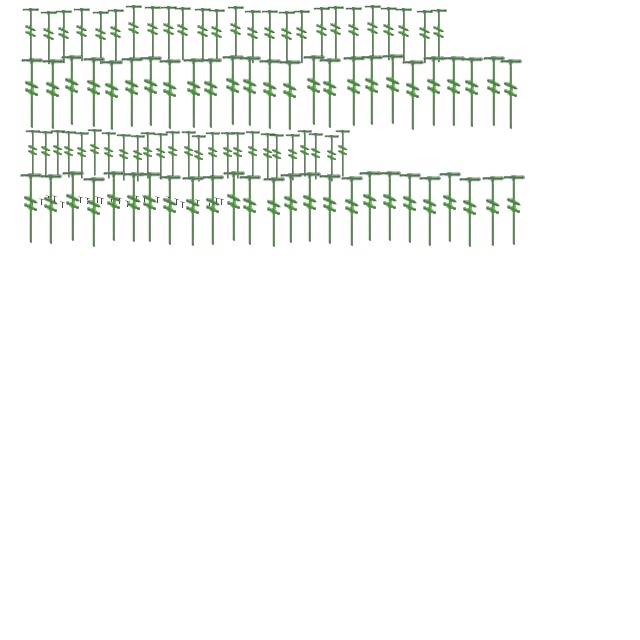enseble_chain: (70, 196, 76, 204), (78, 196, 84, 204), (166, 196, 172, 204), (174, 198, 180, 206), (30, 200, 36, 206), (46, 196, 52, 202), (52, 196, 58, 202), (60, 202, 66, 208), (134, 196, 140, 202), (142, 196, 148, 202), (180, 202, 186, 208), (190, 200, 196, 206), (214, 198, 220, 204), (40, 198, 44, 206), (96, 196, 100, 204), (110, 198, 114, 206), (126, 200, 130, 208), (156, 196, 160, 204), (220, 198, 224, 206), (86, 198, 90, 204), (100, 198, 104, 204), (118, 198, 122, 204), (148, 200, 152, 206), (196, 200, 200, 206), (208, 200, 212, 206)
fan: (40, 58, 66, 132), (220, 54, 246, 128), (498, 58, 524, 132), (18, 172, 44, 246), (60, 170, 86, 244), (200, 174, 226, 248), (278, 172, 304, 246), (138, 56, 164, 128), (198, 58, 224, 130), (380, 54, 406, 126), (400, 60, 426, 132), (38, 174, 64, 246), (180, 176, 206, 248), (480, 176, 506, 248), (60, 54, 84, 128), (82, 56, 106, 130), (120, 56, 144, 130), (158, 58, 182, 132), (258, 58, 282, 132), (302, 54, 326, 128), (360, 54, 384, 128), (460, 56, 484, 130), (82, 176, 106, 250), (102, 170, 126, 244), (158, 174, 182, 248), (222, 170, 246, 244), (238, 174, 262, 248), (262, 176, 286, 250), (358, 170, 382, 244), (378, 170, 402, 244), (398, 172, 422, 246), (458, 176, 482, 250), (502, 174, 526, 248), (20, 58, 44, 130), (100, 60, 124, 132), (182, 58, 206, 130), (238, 56, 262, 128), (278, 60, 302, 132), (318, 58, 342, 130), (342, 56, 366, 128), (422, 56, 446, 128), (442, 56, 466, 128), (482, 56, 506, 128), (122, 172, 146, 244), (138, 172, 162, 244), (298, 172, 322, 244), (318, 174, 342, 246), (340, 176, 364, 248), (418, 176, 442, 248), (438, 172, 462, 244), (54, 9, 74, 65), (72, 7, 92, 63), (106, 8, 126, 64), (124, 4, 144, 60), (226, 5, 246, 61), (260, 9, 280, 65), (292, 9, 312, 65), (312, 6, 332, 62), (326, 5, 346, 61), (344, 6, 364, 62), (394, 7, 414, 63), (22, 7, 40, 63), (40, 10, 58, 66), (92, 10, 110, 66), (144, 5, 162, 61), (160, 5, 178, 61), (174, 6, 192, 62), (194, 7, 212, 63), (208, 8, 226, 64), (244, 9, 262, 65), (278, 10, 296, 66), (364, 4, 382, 60), (380, 6, 398, 62), (416, 9, 434, 65), (430, 8, 448, 64), (60, 130, 78, 180), (86, 128, 104, 178), (152, 132, 170, 182), (164, 130, 182, 180), (180, 130, 198, 180), (190, 134, 208, 184), (244, 130, 262, 180), (24, 130, 42, 178), (100, 132, 118, 180), (204, 132, 222, 180), (268, 134, 286, 182), (284, 134, 302, 182), (296, 130, 314, 178), (334, 130, 352, 178), (38, 130, 54, 180), (130, 134, 146, 184), (260, 132, 276, 182), (308, 132, 324, 182), (324, 134, 340, 184), (50, 130, 66, 178), (74, 132, 90, 180), (116, 134, 132, 182), (140, 132, 156, 180), (220, 132, 236, 180), (230, 132, 246, 180)
